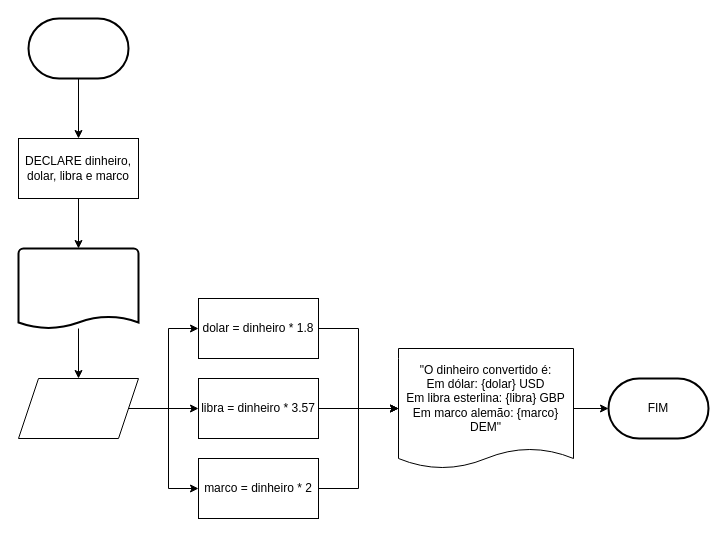
This 726x536 diagram has some shape labels left out. The shapes that lost their labels are listed below. From the top down, each one's centre as x and y in pixels, then its label:
point (78, 48): INICIO
point (78, 288): "Declare a quantidade de dinheiro em R$"
point (78, 408): LEIA dinheiro
